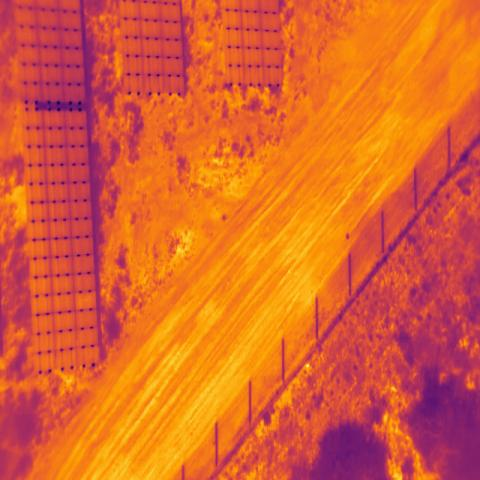fault: (75, 292, 93, 309)
